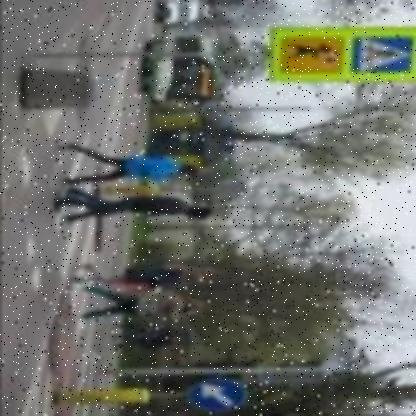Pedestrian Crossing: (350, 35, 415, 77)
